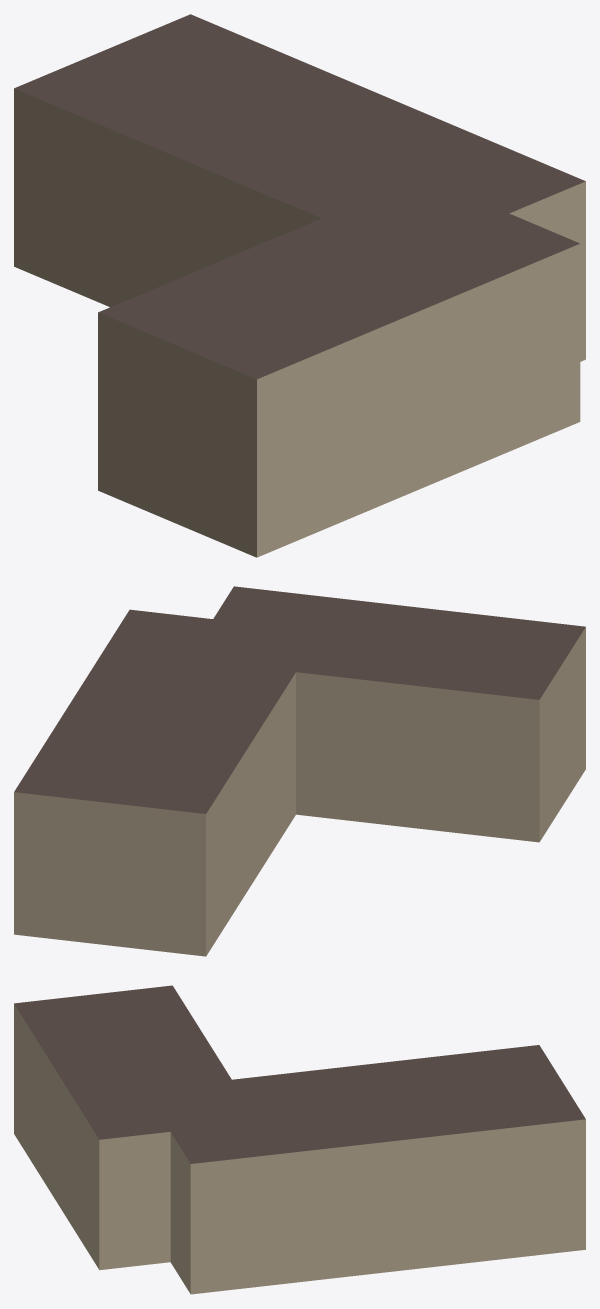
The picture shows the model from 3 angles, top to bottom: view 1: azimuth 30°, elevation 25°; view 2: azimuth 150°, elevation 25°; view 3: azimuth 270°, elevation 25°; orthographic projection. The views are drawn at different scales.
Parts seen in each view (by area): view 1: HP-w1203858318; view 2: HP-w1203858318; view 3: HP-w1203858318.
Boxes of the visible parts, x1,y1,x2,y2 form: HP-w1203858318: (14, 14, 585, 557); HP-w1203858318: (14, 586, 585, 956); HP-w1203858318: (14, 985, 585, 1294).
Size of the model in its own units: 26.43 by 9 by 35.77.
